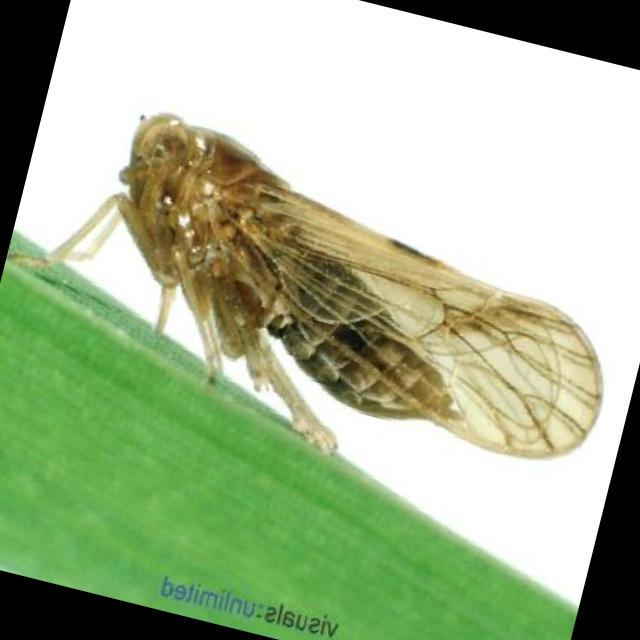brown-planthopper: (43, 112, 604, 462)
